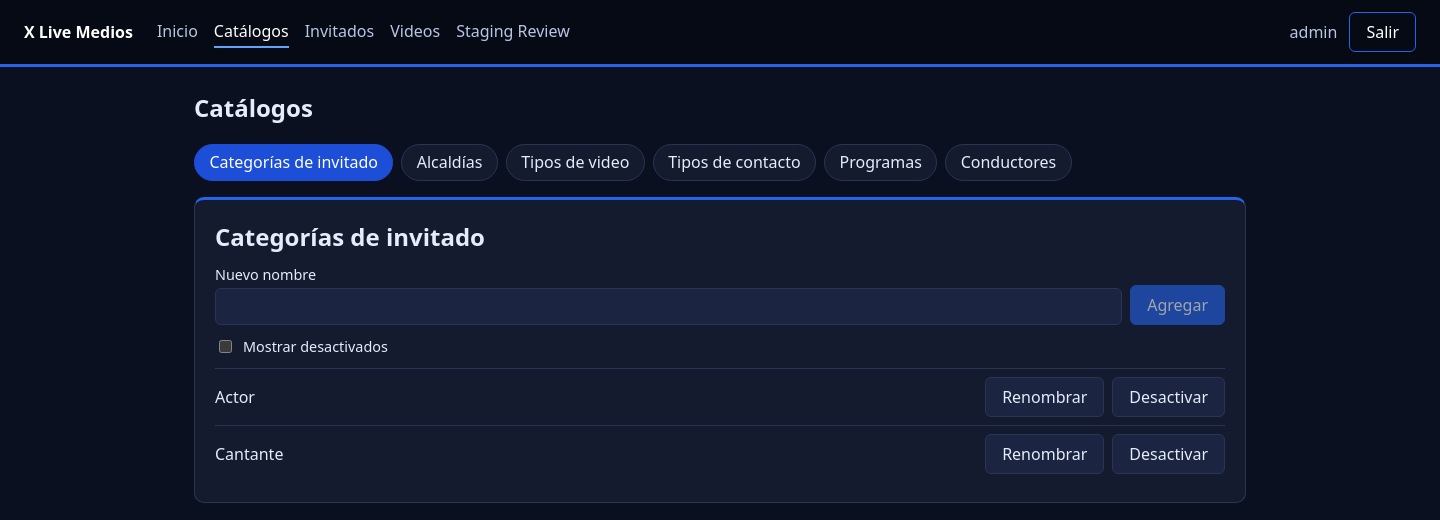
Test: Catálogos › cambia de catálogo desde las pestañas y carga sus datos
Check: the text "Actor" is shown, box x1=215 y1=386 x2=255 y2=408
Click the link "Alcaldías". click: (450, 162)
box: x1=401 y1=144 x2=498 y2=181
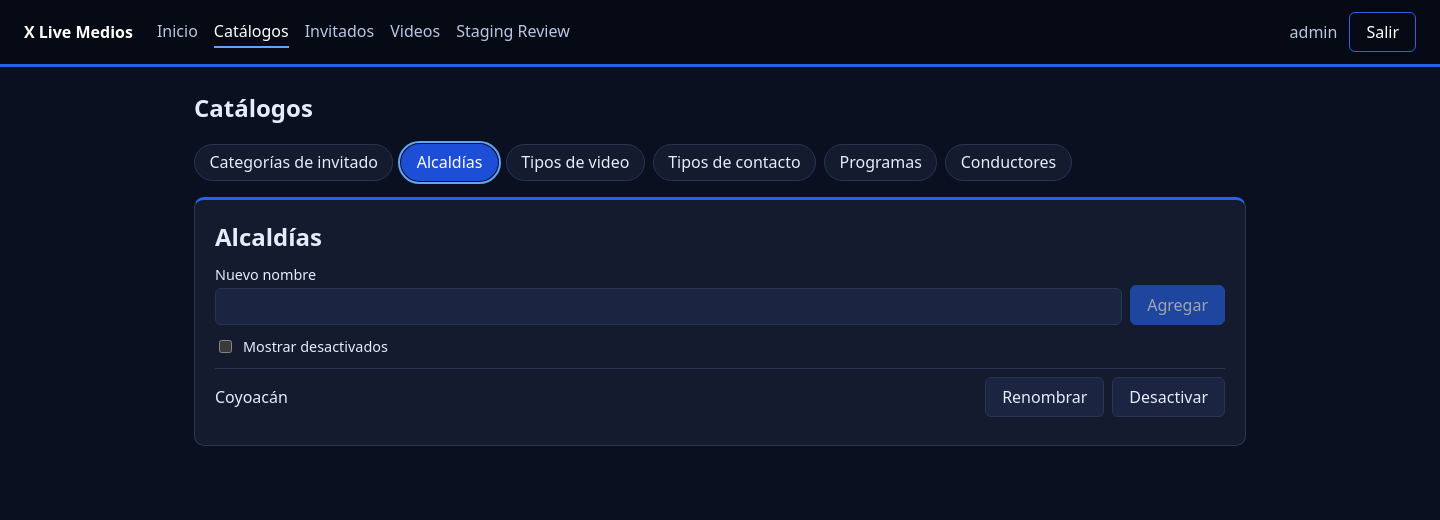
Check: the heading "Alcaldías" is shown, box x1=215 y1=220 x2=322 y2=253
Check: the text "Coyoacán" is shown, box x1=215 y1=386 x2=288 y2=408
Check: the text "Actor" is gone
